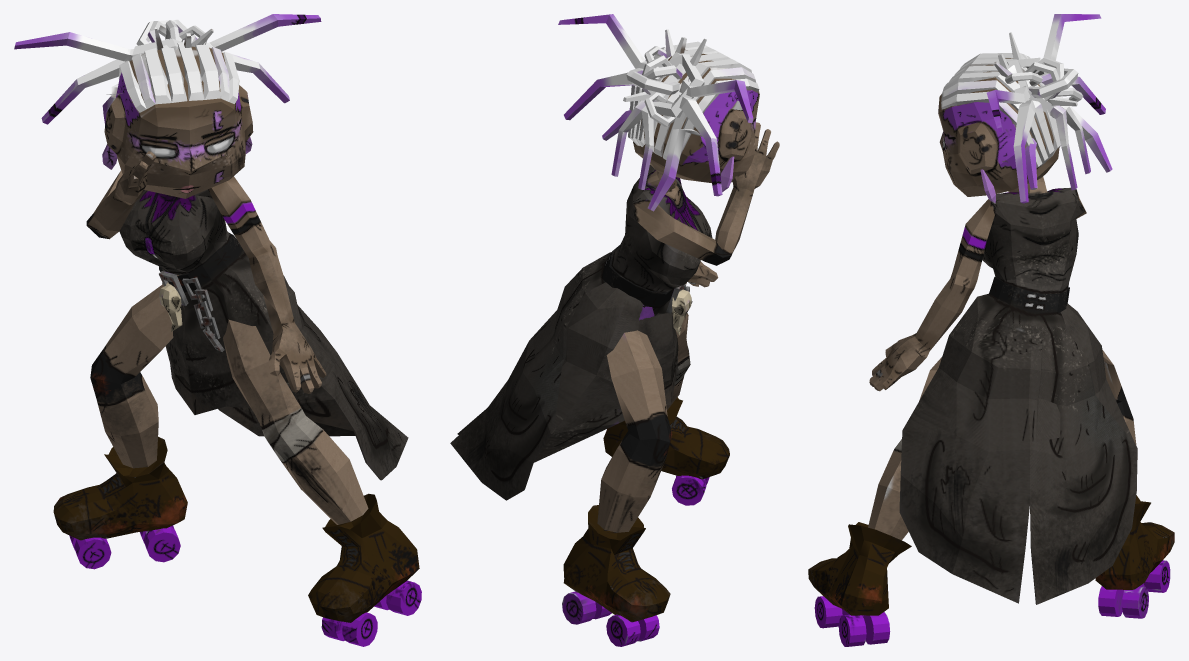
The model's file is bruja_000000.obj.
3 views of the same model, side by side, from view 1: azimuth 30°, elevation 25°; view 2: azimuth 150°, elevation 25°; view 3: azimuth 270°, elevation 25° (orthographic). The views are drawn at different scales.
Visible parts, largest first — view 1: Bruja_Plane.001; view 2: Bruja_Plane.001; view 3: Bruja_Plane.001.
Part boxes in pixels (x1,y1,x2,y2): Bruja_Plane.001: (14, 14, 421, 646); Bruja_Plane.001: (450, 14, 779, 646); Bruja_Plane.001: (808, 14, 1174, 646).
Size of the model in its own units: 9.76 by 15.48 by 9.25.
